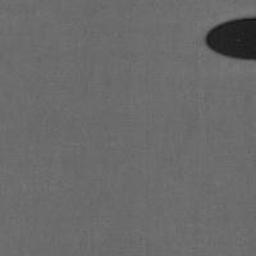Punching: (206, 18, 256, 60)
